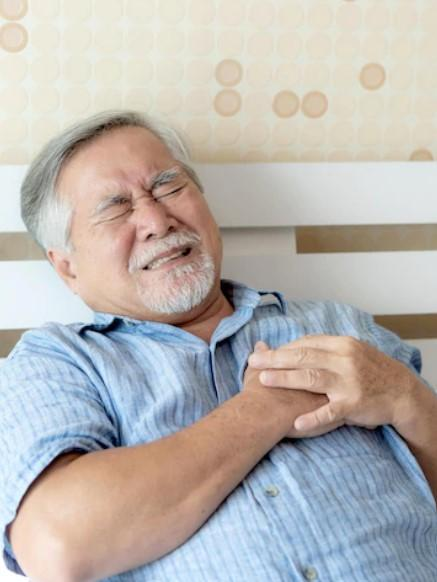pain: (85, 161, 195, 230)
